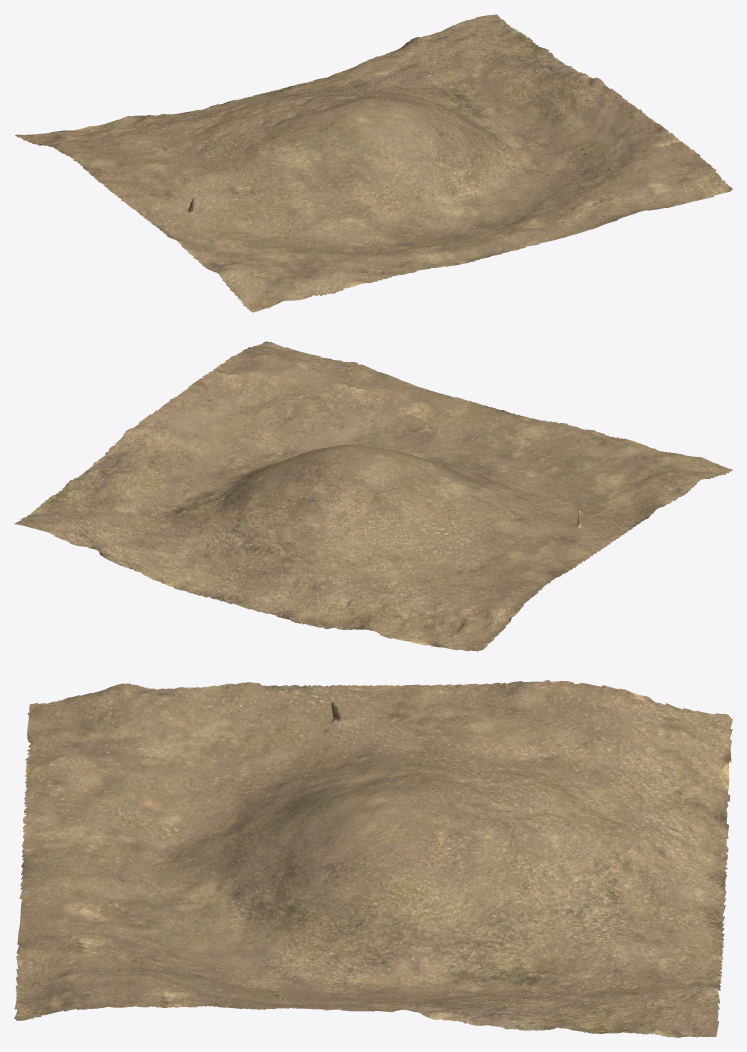
Rendered from huigang.glb.
3 views of the same model, one above another, from view 1: azimuth 30°, elevation 25°; view 2: azimuth 150°, elevation 25°; view 3: azimuth 270°, elevation 25° (orthographic). The views are drawn at different scales.
Visible parts, largest first — view 1: Object_2, Object_3; view 2: Object_2, Object_3; view 3: Object_2, Object_3.
Boxes of the visible parts, left/top/right/bottom form: Object_2: left=22, top=14, right=717, bottom=312; Object_3: left=15, top=14, right=732, bottom=311; Object_2: left=14, top=346, right=732, bottom=649; Object_3: left=15, top=341, right=730, bottom=651; Object_2: left=16, top=681, right=730, bottom=1037; Object_3: left=14, top=680, right=732, bottom=1036.
Size of the model in its own units: 25.68 by 3.59 by 23.07.
1 material, 1 textured.
